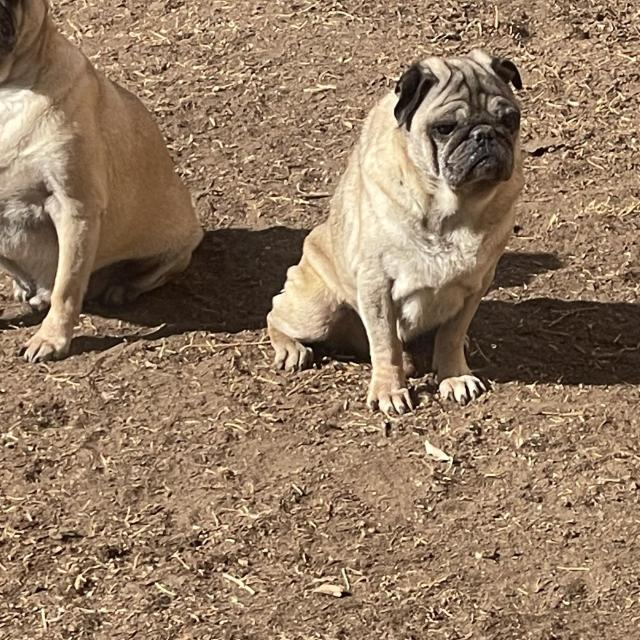pug_dog: (385, 23, 535, 206)
